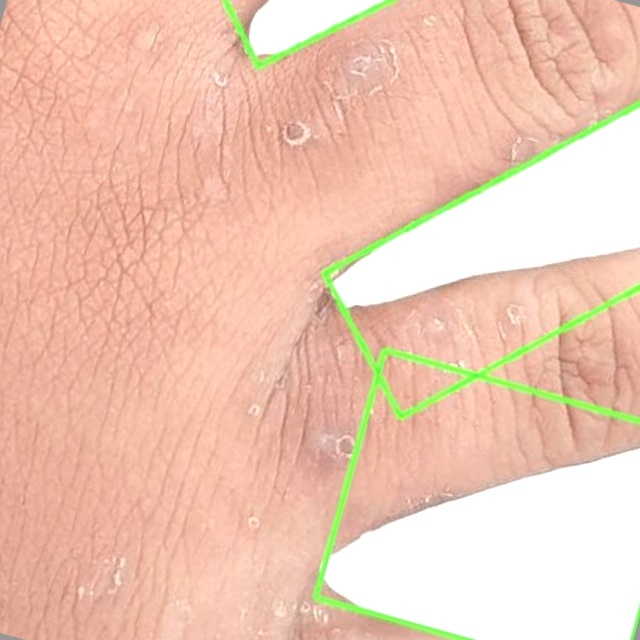Scabies: (318, 88, 639, 417), (314, 350, 639, 639)
